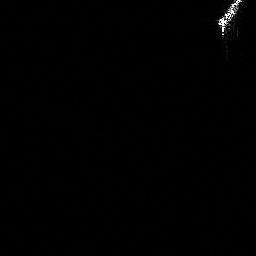ship: (214, 1, 244, 37)
